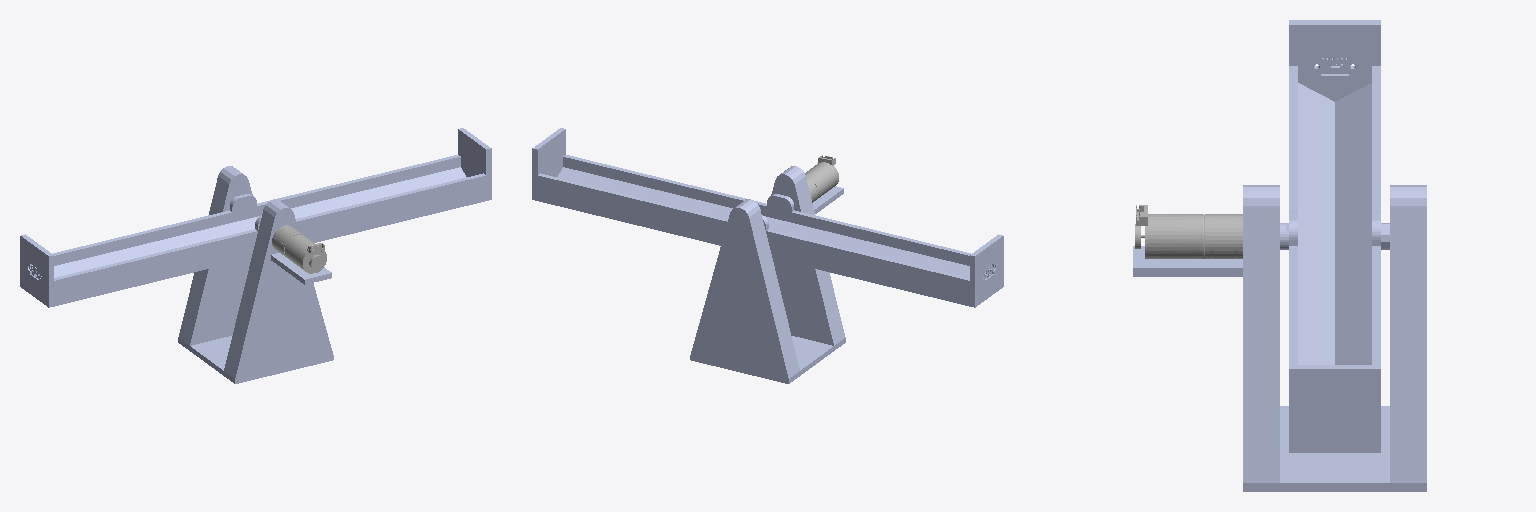
URDF robot description (robotbar_pid_seesaw):
<?xml version="1.0" encoding="utf-8"?>
<!-- This URDF was automatically created by SolidWorks to URDF Exporter! Originally created by [author] ([email redacted]) 
     Commit Version: 1.6.0-4-g7f85cfe  Build Version: 1.6.7995.38578
     For more information, please see http://wiki.ros.org/sw_urdf_exporter -->
<robot
  name="robotbar_pid_seesaw">
  <link
    name="base_link">
    <inertial>
      <origin
        xyz="0 -0.00119663735740164 0.056620016976484"
        rpy="0 0 0" />
      <mass
        value="0.412716261519565" />
      <inertia
        ixx="0.00143274196942032"
        ixy="-1.89946122644641E-19"
        ixz="1.6371961431362E-19"
        iyy="0.000952518880691993"
        iyz="2.61576448481676E-05"
        izz="0.000869229678339635" />
    </inertial>
    <visual>
      <origin
        xyz="0 0 0"
        rpy="0 0 0" />
      <geometry>
        <mesh
          filename="package://robotbar_pid_seesaw/meshes/base_link.STL" />
      </geometry>
      <material
        name="">
        <color
          rgba="0.792156862745098 0.819607843137255 0.933333333333333 1" />
      </material>
    </visual>
    <collision>
      <origin
        xyz="0 0 0"
        rpy="0 0 0" />
      <geometry>
        <mesh
          filename="package://robotbar_pid_seesaw/meshes/base_link.STL" />
      </geometry>
    </collision>
  </link>
  <link
    name="motor_link">
    <inertial>
      <origin
        xyz="-2.5098E-09 -0.00012384 -0.039504"
        rpy="0 0 0" />
      <mass
        value="0.027206" />
      <inertia
        ixx="2.6333E-06"
        ixy="4.0291E-17"
        ixz="8.3716E-23"
        iyy="2.6262E-06"
        iyz="1.3123E-10"
        izz="2.0792E-06" />
    </inertial>
    <visual>
      <origin
        xyz="0 0 0"
        rpy="0 0 0" />
      <geometry>
        <mesh
          filename="package://robotbar_pid_seesaw/meshes/motor_link.STL" />
      </geometry>
      <material
        name="">
        <color
          rgba="0.75294 0.75294 0.75294 1" />
      </material>
    </visual>
    <collision>
      <origin
        xyz="0 0 0"
        rpy="0 0 0" />
      <geometry>
        <mesh
          filename="package://robotbar_pid_seesaw/meshes/motor_link.STL" />
      </geometry>
    </collision>
  </link>
  <joint
    name="motor_joint"
    type="fixed">
    <origin
      xyz="0 -0.038 0.13"
      rpy="-1.5708 0.047619 0" />
    <parent
      link="base_link" />
    <child
      link="motor_link" />
    <axis
      xyz="0 0 0" />
  </joint>
  <link
    name="shaft_link">
    <inertial>
      <origin
        xyz="0 5.5511E-17 0.0038903"
        rpy="0 0 0" />
      <mass
        value="0.0040097" />
      <inertia
        ixx="2.3867E-07"
        ixy="2.2026E-23"
        ixz="6.7792E-22"
        iyy="2.4333E-07"
        iyz="-8.1714E-22"
        izz="1.1307E-07" />
    </inertial>
    <visual>
      <origin
        xyz="0 0 0"
        rpy="0 0 0" />
      <geometry>
        <mesh
          filename="package://robotbar_pid_seesaw/meshes/shaft_link.STL" />
      </geometry>
      <material
        name="">
        <color
          rgba="0.79216 0.81961 0.93333 1" />
      </material>
    </visual>
    <collision>
      <origin
        xyz="0 0 0"
        rpy="0 0 0" />
      <geometry>
        <mesh
          filename="package://robotbar_pid_seesaw/meshes/shaft_link.STL" />
      </geometry>
    </collision>
  </link>
  <joint
    name="shaft_joint"
    type="revolute">
    <origin
      xyz="0 0 0"
      rpy="0 0 -0.047619" />
    <parent
      link="motor_link" />
    <child
      link="shaft_link" />
    <axis
      xyz="0 0 1" />
    <limit
      lower="-0.4"
      upper="0.4"
      effort="1000"
      velocity="2" />
  </joint>
  <link
    name="seesaw_Link">
    <inertial>
      <origin
        xyz="0.0007554 -6.1786E-06 -0.015285"
        rpy="0 0 0" />
      <mass
        value="0.29887" />
      <inertia
        ixx="0.00011457"
        ixy="-1.3949E-09"
        ixz="-3.3491E-06"
        iyy="0.0056424"
        iyz="3.285E-08"
        izz="0.0057088" />
    </inertial>
    <visual>
      <origin
        xyz="0 0 0"
        rpy="0 0 0" />
      <geometry>
        <mesh
          filename="package://robotbar_pid_seesaw/meshes/seesaw_Link.STL" />
      </geometry>
      <material
        name="">
        <color
          rgba="0.79216 0.81961 0.93333 1" />
      </material>
    </visual>
    <collision>
      <origin
        xyz="0 0 0"
        rpy="0 0 0" />
      <geometry>
        <mesh
          filename="package://robotbar_pid_seesaw/meshes/seesaw_Link.STL" />
      </geometry>
    </collision>
  </link>
  <joint
    name="seesaw_joint"
    type="fixed">
    <origin
      xyz="0 0 0.038"
      rpy="1.5708 0 0" />
    <parent
      link="shaft_link" />
    <child
      link="seesaw_Link" />
    <axis
      xyz="0 0 0" />
  </joint>
  <link name="sensor_link">
    <inertial>
      <origin
        xyz="7.3733E-05 -0.00024445 0.0008474"
        rpy="0 1.5708 0" />
      <mass
        value="0.00034278" />
      <inertia
        ixx="2.8213E-09"
        ixy="2.4144E-12"
        ixz="3.4557E-11"
        iyy="1.0327E-08"
        iyz="3.6792E-11"
        izz="1.2859E-08" />
    </inertial>
    <visual>
      <origin
        xyz="0 0 0"
        rpy="0 1.5708 0" />
      <geometry>
        <mesh
          filename="package://robotbar_pid_seesaw/meshes/sensor_link.STL" />
      </geometry>
      <material
        name="">
        <color
          rgba="0.79216 0.81961 0.93333 1" />
      </material>
    </visual>
    <collision>
      <origin
        xyz="0 0 0"
        rpy="0 1.5708 0" />
      <geometry>
        <mesh
          filename="package://robotbar_pid_seesaw/meshes/sensor_link.STL" />
      </geometry>
    </collision>
  </link>
  <joint
    name="sensor_joint"
    type="fixed">
    <origin
      xyz="-0.22364 0 -0.00045"
      rpy="1.5708 0 0" /> <!--1.5708 0 1.5708-->
    <parent
      link="seesaw_Link" />
    <child
      link="sensor_link" />
    <axis
      xyz="0 0 0" />
  </joint>
  
  <gazebo reference="sensor_link">
    <material>Gazebo/Black</material>
  </gazebo>

  <gazebo reference="motor_link">
    <material>Gazebo/Grey</material>
  </gazebo>

  <gazebo>
    <plugin name="gazebo_ros_control" filename="libgazebo_ros_control.so" />
  </gazebo>
  
  <!-- Distance sensor -->
  <gazebo reference="sensor_link">
    <sensor name="vl53l1xSensor" type="ray">
      <pose>0 0 0 0 0 0</pose>
      <visualize>true</visualize>
      <update_rate>10</update_rate>
      <ray>
        <scan>
          <horizontal>
            <samples>1</samples>
            <resolusion>1</resolusion>
            <min_angle>-0</min_angle>
            <max_angle>0</max_angle>
          </horizontal>
        </scan>
        <range>
          <min>0.008</min>
          <max>4</max>
          <resolusion>0.001</resolusion>
        </range>
        <noise>
          <type>gaussian</type>
          <mean>0.0</mean>
          <stddev>0.001</stddev>
        </noise>
      </ray>
      <plugin name="vl53l1x_controller" filename="libgazebo_ros_laser.so">
        <topicName>/vl53l1x_sensor/distance</topicName>
        <frameName>vl53l1x_sensor</frameName>
      </plugin>
    </sensor>
  </gazebo>

  <transmission name="shaft_trans">
    <type>transmission_interface/SimpleTransmission</type>
    <actuator name="shaft_motor" />
    <joint name="shaft_joint">
      <hardwareInterface>hardware_interface/PositionJointInterface</hardwareInterface>
    </joint>
  </transmission>
  
</robot>

--- Render facts (derived) ---
3 views of the same robot in one strip: view 1: azimuth 30°, elevation 25°; view 2: azimuth 150°, elevation 25°; view 3: azimuth 270°, elevation 25° (orthographic).
Robot: robotbar_pid_seesaw — 5 links, 4 joints (1 revolute, 3 fixed); root link base_link; default pose: all joints at 0.
Visible links, largest first — view 1: seesaw_Link, base_link, motor_link; view 2: seesaw_Link, base_link, motor_link; view 3: seesaw_Link, base_link, motor_link.
Link boxes in pixels (bbox=[...]): seesaw_Link: bbox=[20, 128, 491, 307]; base_link: bbox=[178, 166, 333, 383]; motor_link: bbox=[272, 225, 326, 273]; seesaw_Link: bbox=[532, 128, 1003, 307]; base_link: bbox=[690, 166, 845, 383]; motor_link: bbox=[805, 155, 838, 202]; seesaw_Link: bbox=[1289, 20, 1380, 452]; base_link: bbox=[1133, 185, 1426, 491]; motor_link: bbox=[1135, 205, 1242, 258].
Size in the robot's own frame: 0.45 by 0.16 by 0.16 metres.
5 mesh visuals loaded from 5 distinct referenced files (5 binary STL).
